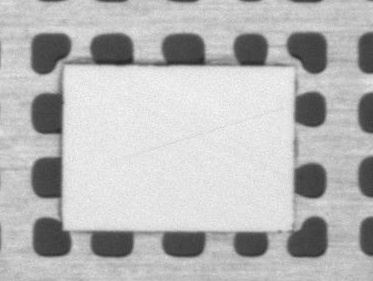DIE_CRACK: (167, 81, 373, 118)
